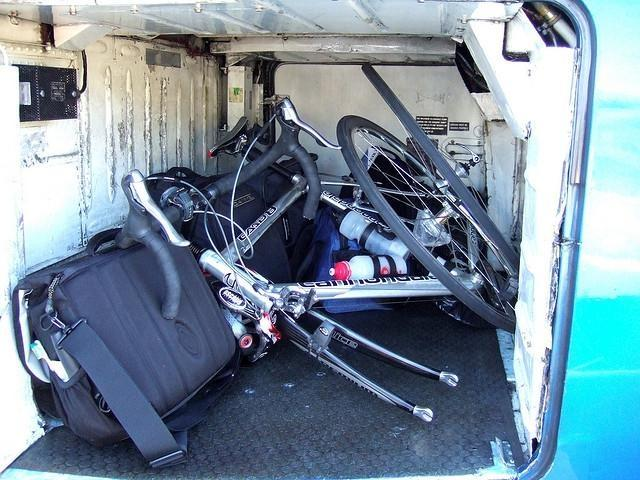bicycle: (114, 65, 519, 426)
